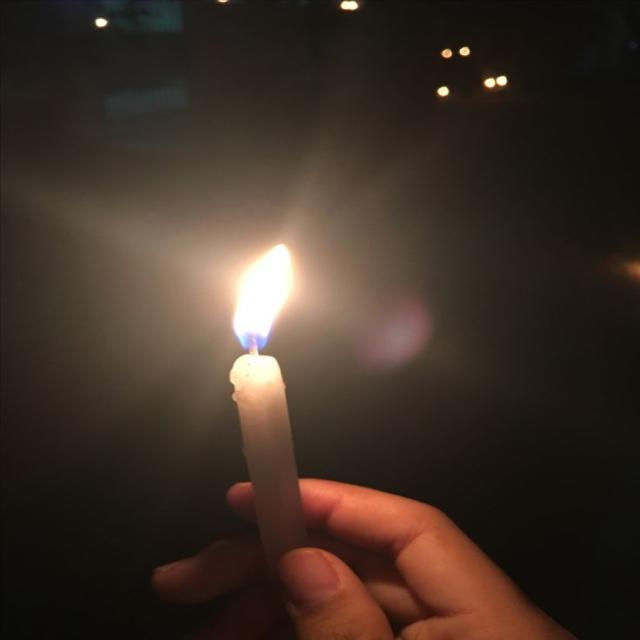fire: (229, 243, 297, 351)
